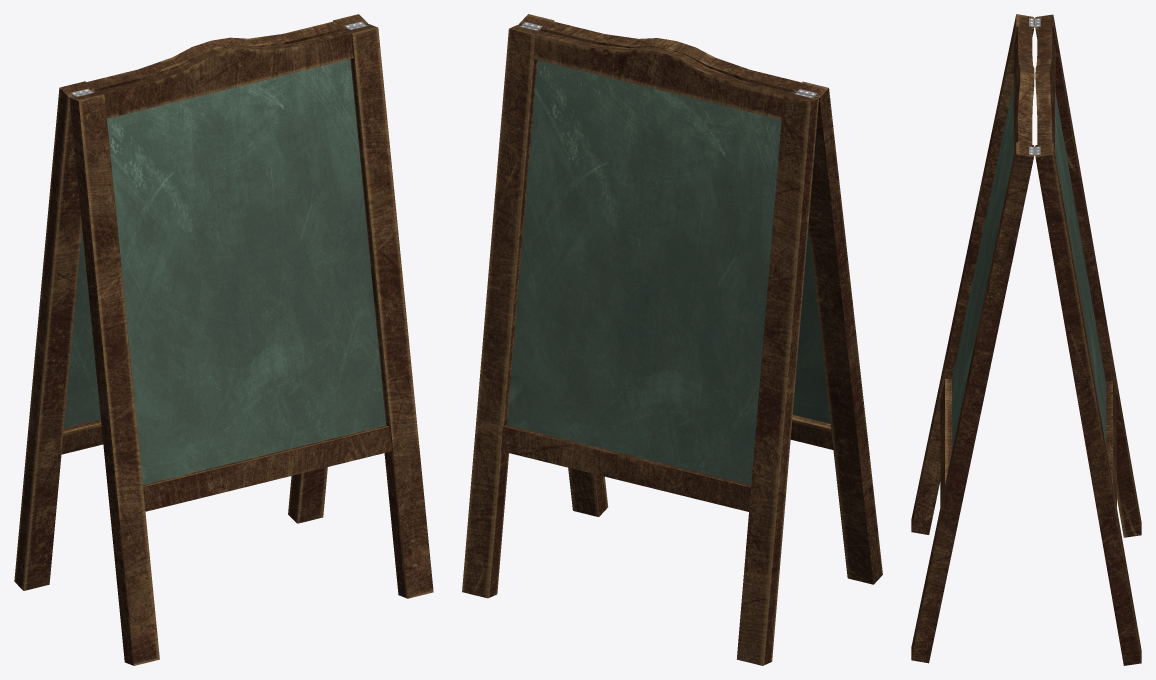
File: chalk board .fbx
The picture shows the model from 3 angles, left to right: view 1: azimuth 30°, elevation 25°; view 2: azimuth 150°, elevation 25°; view 3: azimuth 270°, elevation 25°; orthographic projection. The views are drawn at different scales.
Parts seen in each view (by area): view 1: MenuBoard; view 2: MenuBoard; view 3: MenuBoard.
Boxes of the visible parts, box(x1,y1,x2,y2) form: MenuBoard: box(14, 14, 433, 665); MenuBoard: box(462, 14, 882, 665); MenuBoard: box(911, 14, 1141, 665).
Bounding box in the file's own units: 2473 × 4268 × 1707.
Materials: 1 (1 with a texture image).
